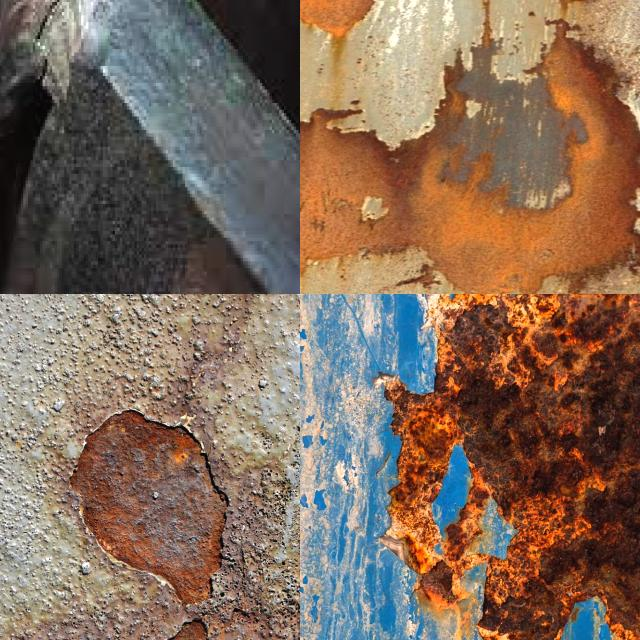Crack: (9, 0, 103, 83)
Pitting Corrosion: (379, 294, 640, 640)
Uniform Corrosion: (300, 30, 640, 294), (70, 410, 228, 604)
